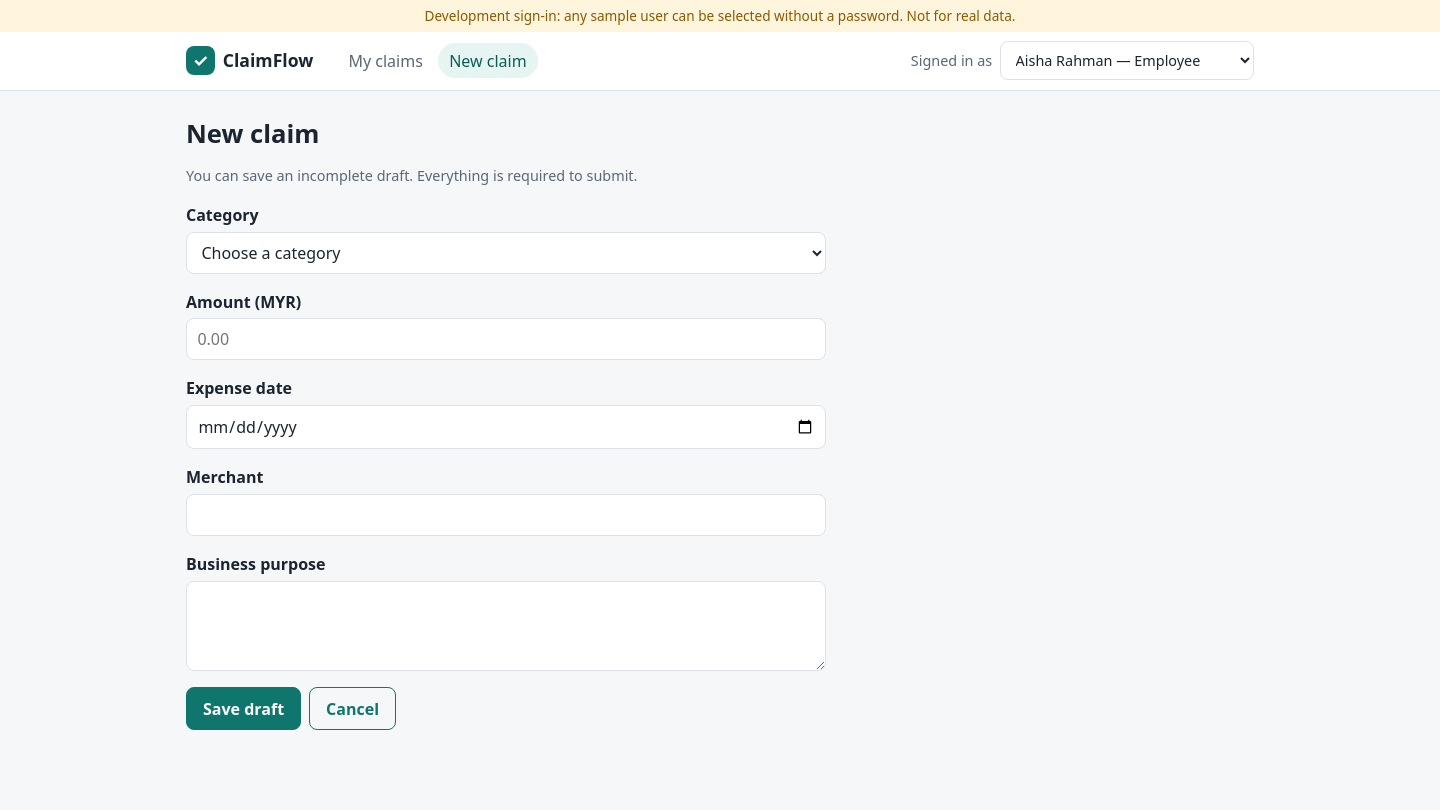
it: creating and editing drafts › shows server validation next to the fields
Click the button "Save draft": [244, 709] box [186,687,301,730]
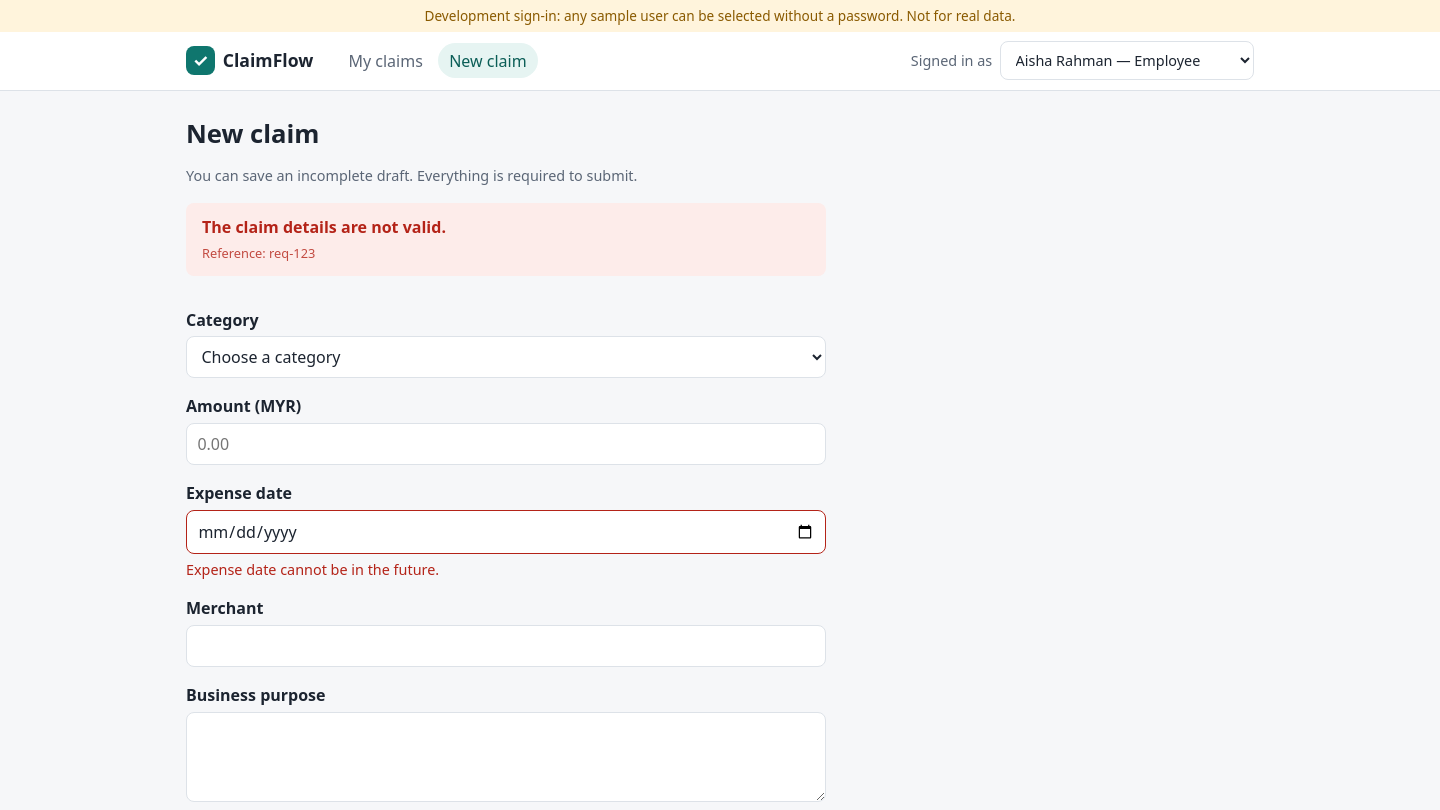
Expected: the text "Expense date cannot be in the future." is shown, [186,560,439,579]
